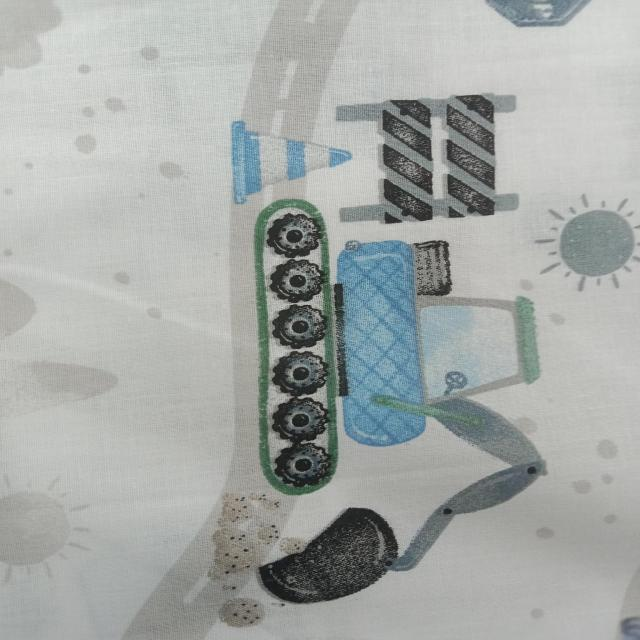color issues: (235, 71, 538, 612), (9, 0, 158, 568)
